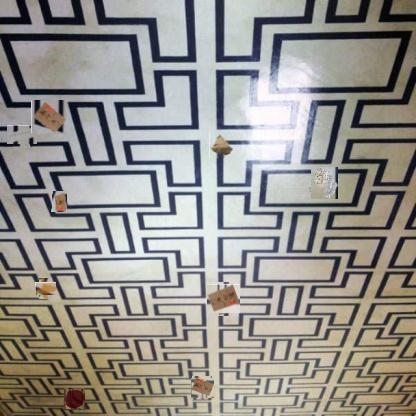dirty: (32, 99, 66, 134), (208, 283, 239, 315), (309, 168, 339, 198), (209, 132, 234, 158), (10, 123, 35, 147), (192, 377, 214, 399), (51, 190, 67, 212)
liquid: (63, 388, 85, 410), (37, 280, 54, 297)
